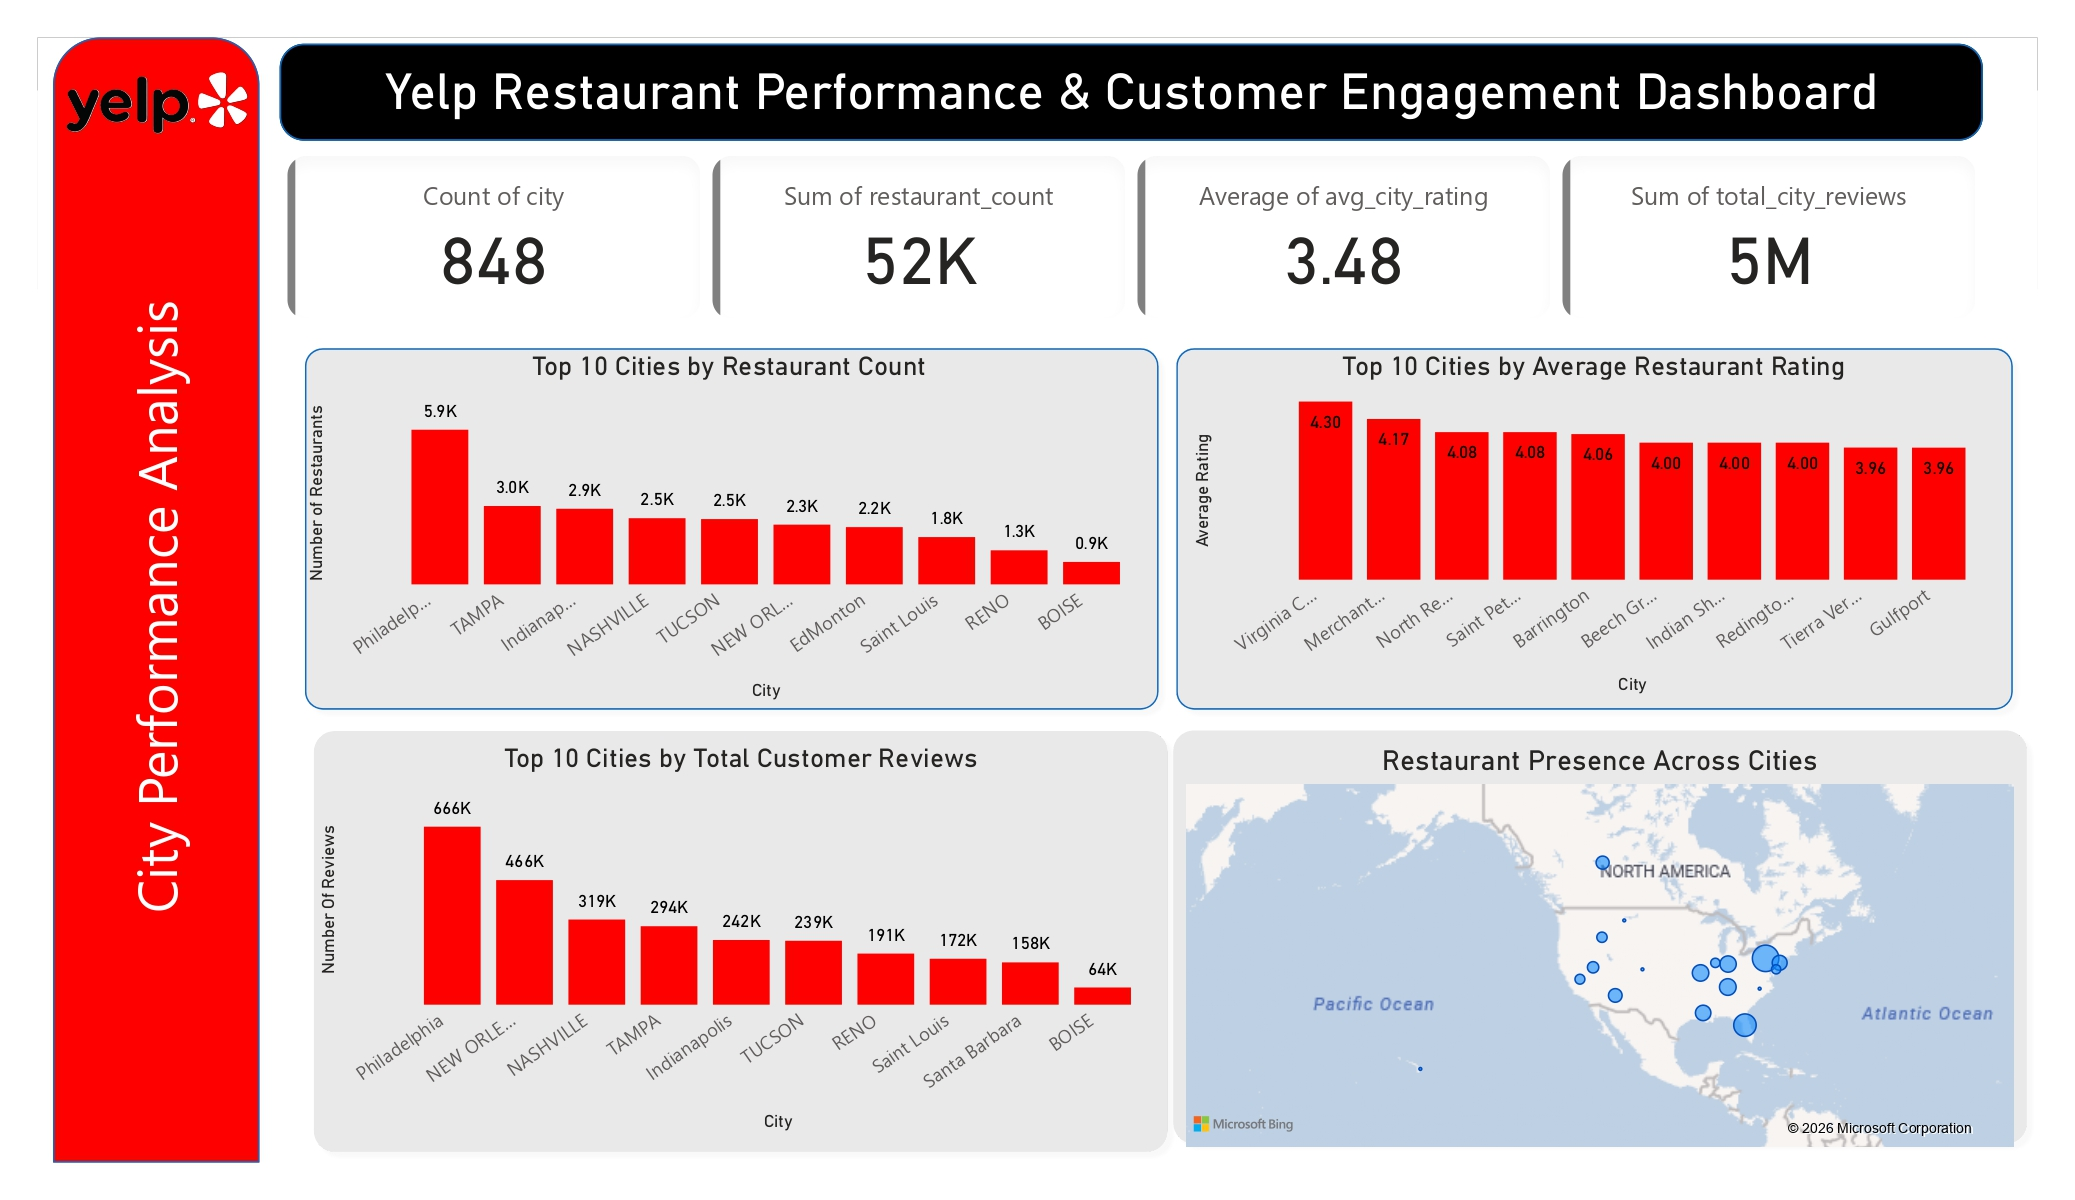

This screenshot's page, from the dashboard's own definition file:
{"tool":"powerbi","page":{"name":"City & State Performance Analysis","canvas":[1280,720],"ordinal":2},"visuals":[{"type":"shape","box":[9.5,0,132.1,720.2],"z":0,"group":"g1"},{"type":"shape","box":[170,436.7,560,283.3],"z":0},{"type":"shape","box":[721.6,191.7,548.8,245],"z":1500,"group":"g1"},{"type":"shape","box":[155.1,4.1,1089.5,61.7],"z":2000},{"type":"shape","box":[163.7,191.7,560,245],"z":2250,"group":"g1"},{"type":"group","id":"g1","title":"Group 1","box":[9.5,0,1260.8,720.2],"z":3000},{"type":"cardVisual","fields":{"Data":["Count(city_metrics.city)","Sum(city_metrics.restaurant_count)","Avg(city_metrics.avg_city_rating)","Sum(city_metrics.total_city_reviews)"]},"box":[154.7,71.2,1090,113.8],"z":3000,"group":"g1"},{"type":"shape","box":[720,436.7,560,278.3],"z":4000},{"type":"image","box":[0,0,155.3,85.6],"z":5000},{"type":"lineClusteredColumnComboChart","title":"Top 10 Cities by Restaurant Count","fields":{"Category":["city_metrics.city"],"Y":["Sum(city_metrics.restaurant_count)"]},"box":[167.6,200,548.8,228.8],"z":5000,"group":"g1"},{"type":"lineClusteredColumnComboChart","title":"Top 10 Cities by Total Customer Reviews","fields":{"Category":["city_metrics.city"],"Y":["Sum(city_metrics.total_city_reviews)"]},"box":[176.2,451.2,547.5,253.8],"z":6000},{"type":"lineClusteredColumnComboChart","title":"Top 10 Cities by Average Restaurant Rating","fields":{"Category":["city_metrics.city"],"Y":["Avg(city_metrics.avg_city_rating)"]},"box":[735,200,521.7,225],"z":7000},{"type":"map","title":"Restaurant Presence Across Cities","fields":{"Category":["city_metrics.state","city_metrics.city"],"Size":["Sum(city_metrics.restaurant_count)"]},"box":[730,451.7,540,263.3],"z":8000}]}

Visuals, with their boxes on the page's 1280x720 design canvas (x1, y1, x2, y2). These are canvas units, not pixel positions in the 2075x1200 screenshot, which may show the page scaled, cropped or inside an application window:
shape: bbox=[10, 0, 142, 720]
shape: bbox=[170, 437, 730, 720]
shape: bbox=[722, 192, 1270, 437]
shape: bbox=[155, 4, 1245, 66]
shape: bbox=[164, 192, 724, 437]
"Group 1" group: bbox=[10, 0, 1270, 720]
cardVisual - Count(city_metrics.city) x Sum(city_metrics.restaurant_count): bbox=[155, 71, 1245, 185]
shape: bbox=[720, 437, 1280, 715]
image: bbox=[0, 0, 155, 86]
"Top 10 Cities by Restaurant Count" lineClusteredColumnComboChart: bbox=[168, 200, 716, 429]
"Top 10 Cities by Total Customer Reviews" lineClusteredColumnComboChart: bbox=[176, 451, 724, 705]
"Top 10 Cities by Average Restaurant Rating" lineClusteredColumnComboChart: bbox=[735, 200, 1257, 425]
"Restaurant Presence Across Cities" map: bbox=[730, 452, 1270, 715]
